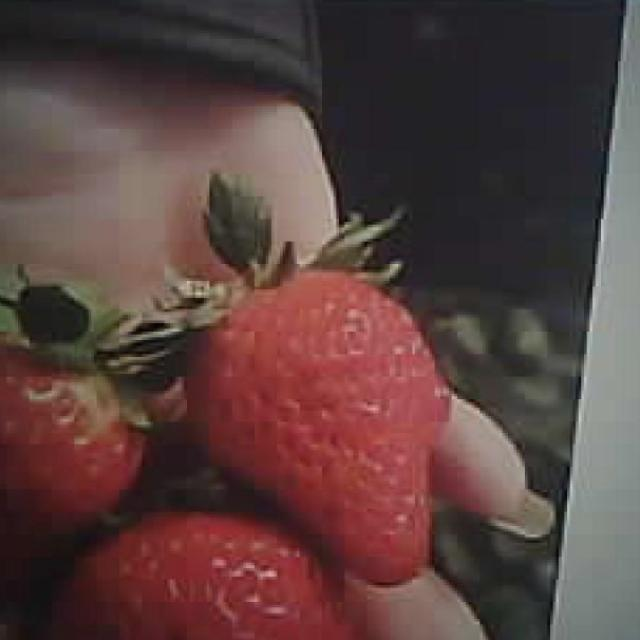Healthy Fruit: (183, 268, 455, 585), (59, 509, 347, 640), (6, 325, 145, 595)
